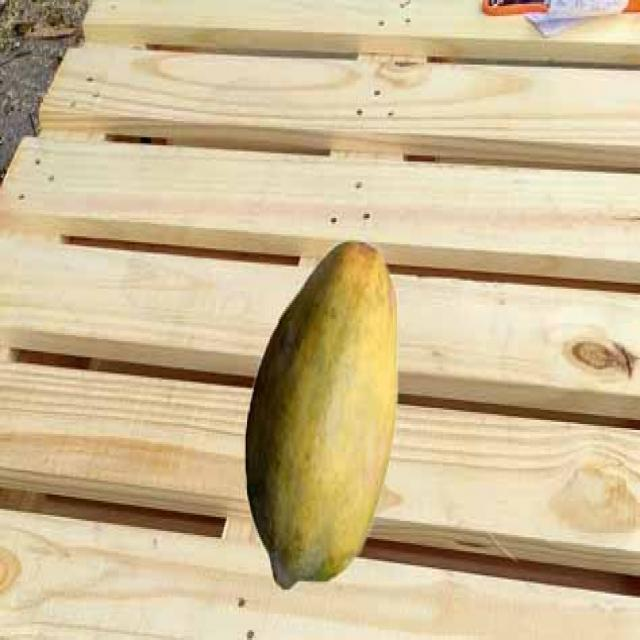Pepaya rippen: (246, 234, 402, 584)
